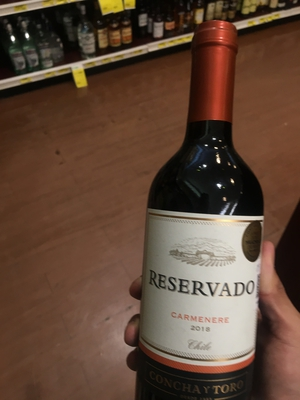reservado carmenere: (132, 42, 259, 400)
